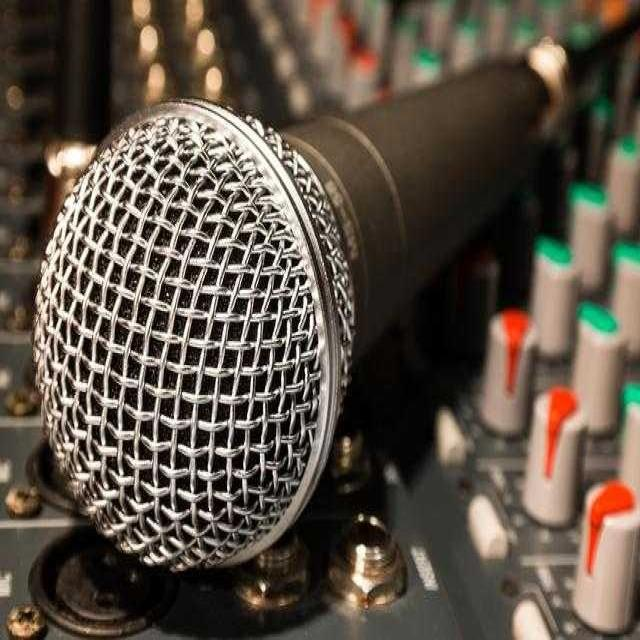microphone: (42, 44, 554, 546)
